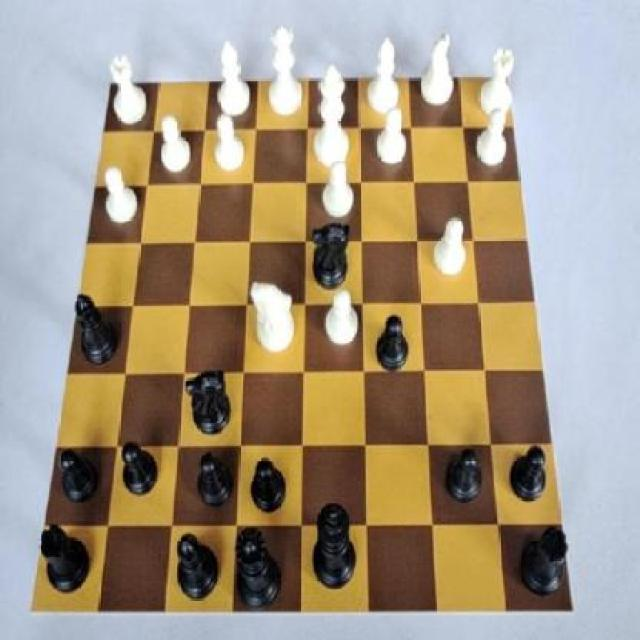bishop: (71, 291, 124, 366), (172, 531, 222, 608)
black-bishop: (311, 494, 358, 597)
black-king: (308, 211, 356, 300), (183, 362, 237, 439)
black-knight: (498, 438, 550, 514), (242, 449, 296, 521), (54, 443, 104, 514), (191, 444, 235, 518), (372, 305, 416, 376), (118, 438, 160, 510), (442, 443, 486, 508)
black-pawn: (232, 522, 288, 612)
black-queen: (514, 522, 575, 599), (36, 524, 96, 598)
black-rook: (362, 28, 412, 120), (210, 39, 256, 130)
white-bishop: (311, 59, 357, 178)
white-king: (246, 279, 300, 363), (418, 28, 458, 114)
white-knight: (468, 102, 523, 176), (428, 203, 470, 279), (320, 158, 362, 232), (322, 282, 362, 358), (370, 108, 416, 174), (156, 111, 194, 183), (211, 108, 247, 184), (102, 166, 139, 229)
white-pawn: (265, 20, 307, 125)
white-queen: (104, 51, 154, 128), (477, 35, 521, 120)
